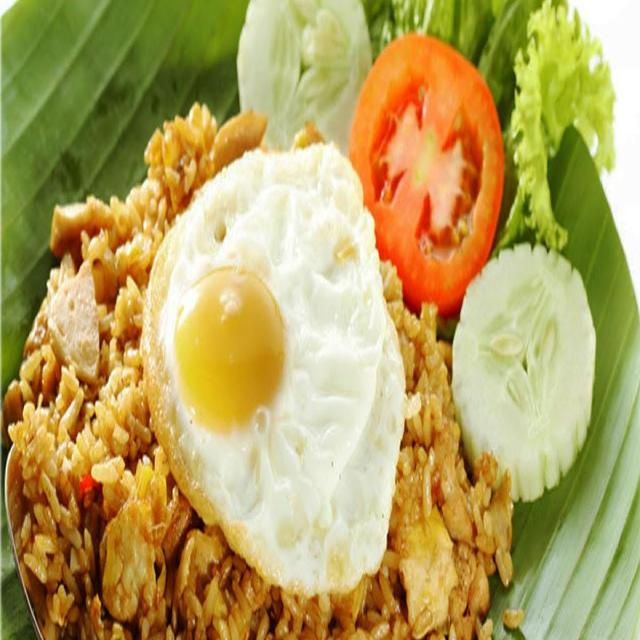Nasi Goreng: (7, 134, 444, 639)
